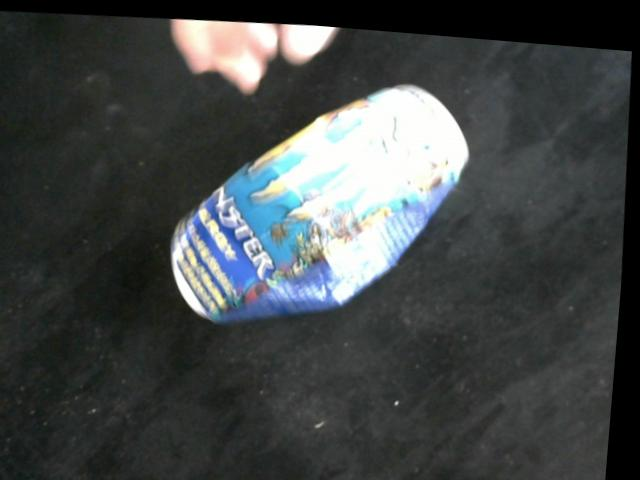can: (172, 78, 473, 317)
